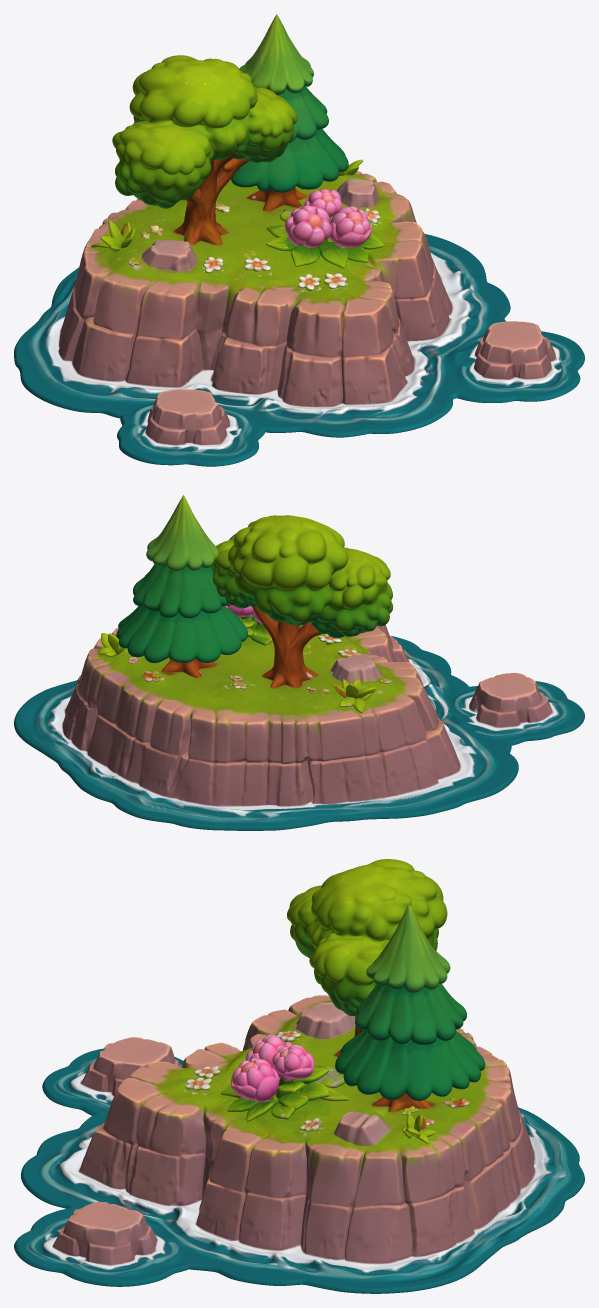
The model's file is mixed-trees-islet-01.glb.
3 views of the same model, one above another, from view 1: azimuth 30°, elevation 25°; view 2: azimuth 150°, elevation 25°; view 3: azimuth 270°, elevation 25° (orthographic). The views are drawn at different scales.
Bounding box in the file's own units: 1.9 × 1.05 × 1.85.
Materials: 1 (1 with a texture image).
